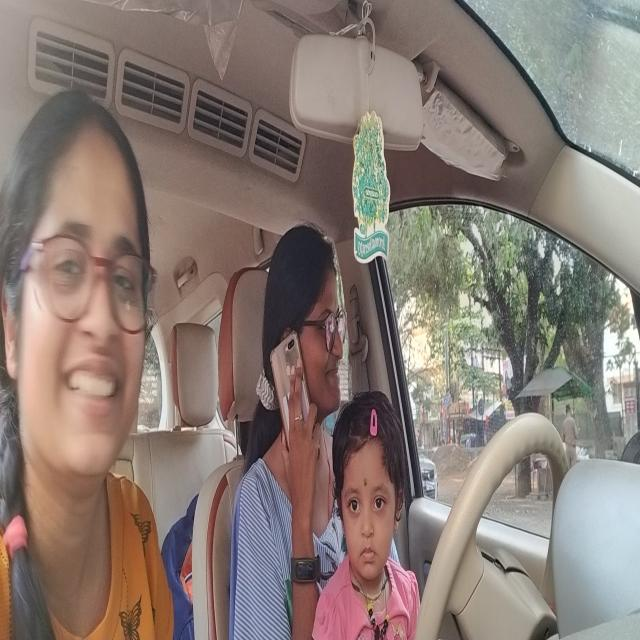child: (330, 392, 408, 593)
mobile: (267, 333, 315, 462)
person: (1, 78, 163, 516), (262, 212, 350, 442)
